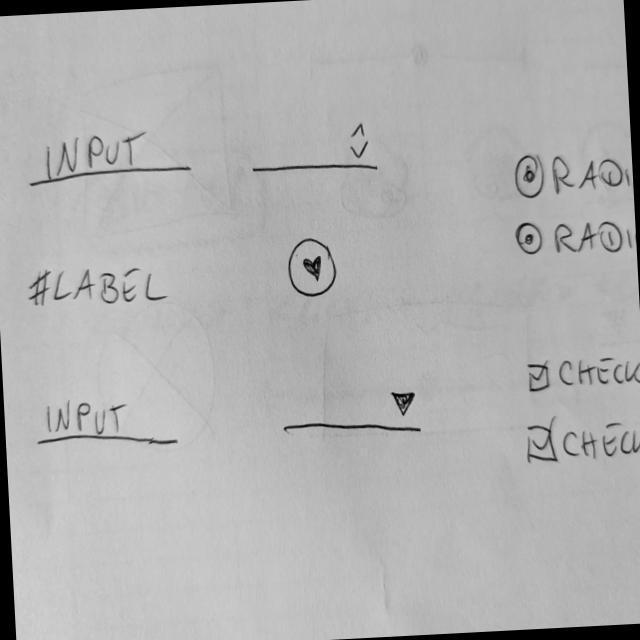checkbox: (523, 416, 640, 471), (522, 349, 640, 399)
icon-button: (286, 235, 341, 303)
input: (24, 125, 196, 192), (29, 390, 184, 458)
label: (25, 256, 174, 319)
number-input: (249, 115, 386, 186)
radio: (512, 145, 549, 202), (515, 210, 546, 261)
select: (280, 386, 426, 444)
